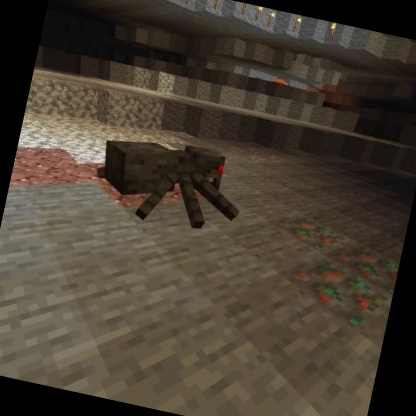spider: (84, 120, 256, 246)
